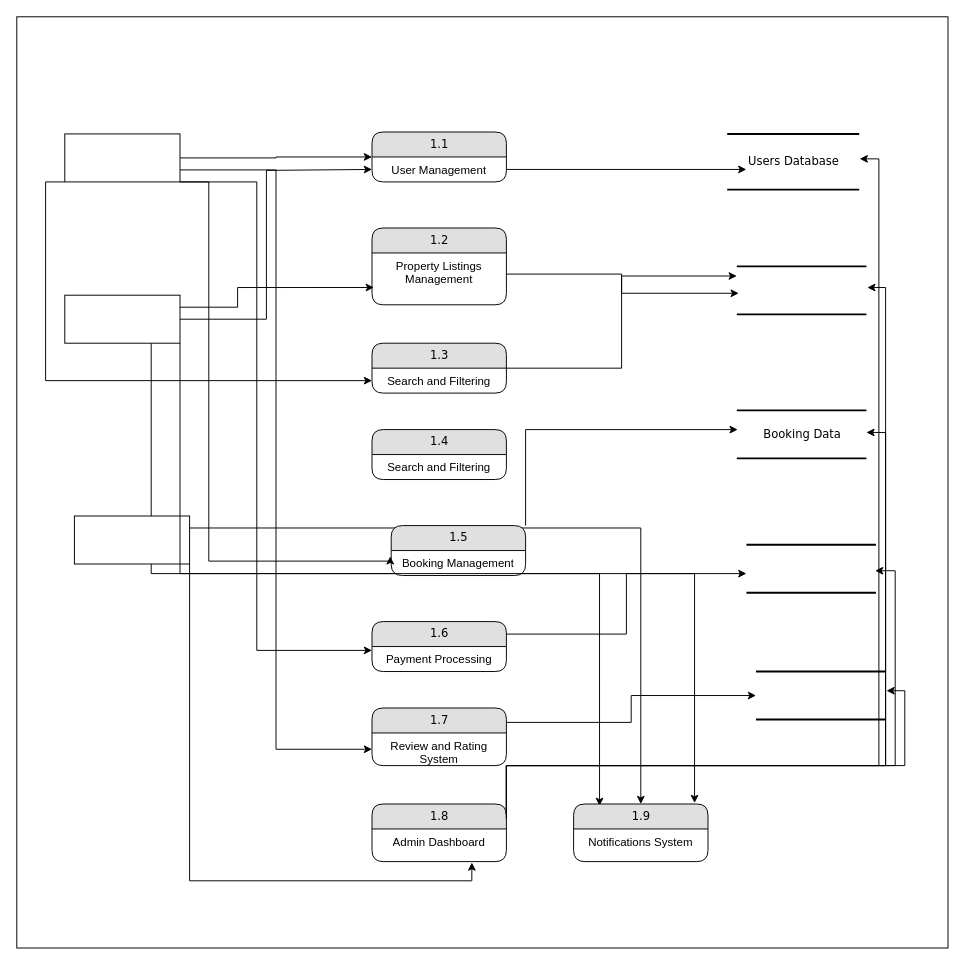
The diagram is 965 pixels wide and 965 high, and some of its shapes have lost their labels. The shapes that lost their labels are listed below. From the top down, each one's box as (x1, y1, x2, y2) in pixels, then its label:
(64, 133, 180, 182): Guste
(735, 265, 867, 315): Properties Database
(64, 294, 180, 343): Hosts
(73, 515, 190, 564): Admin
(745, 543, 876, 593): Payments Database
(755, 670, 886, 720): Reviews Database
